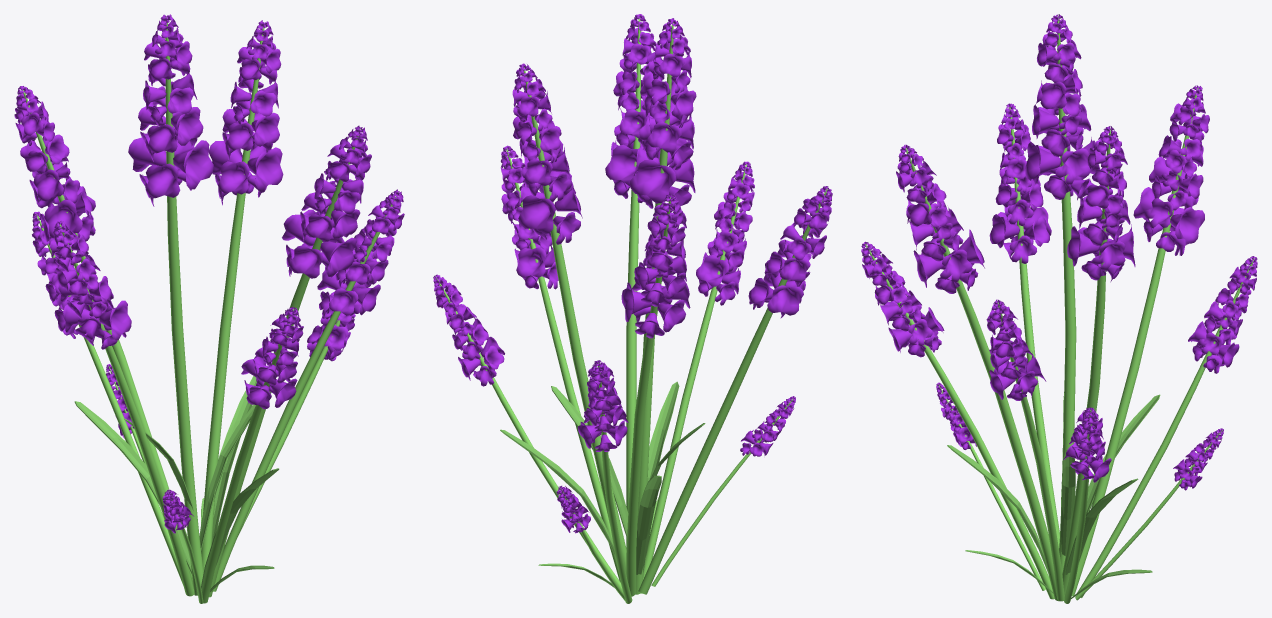
File: Stage3lavender100%.fbx
3 views of the same model, side by side, from view 1: azimuth 30°, elevation 25°; view 2: azimuth 150°, elevation 25°; view 3: azimuth 270°, elevation 25° (orthographic). The views are drawn at different scales.
Visible parts, largest first — view 1: main lavender.031, main lavender.034, main lavender.037, main lavender.054, main lavender.046, main lavender.036, main lavender.043, main lavender.055, main lavender.052, main leaf.027, main leaf.026, main lavender.057 (+4 smaller); view 2: main lavender.034, main lavender.031, main lavender.036, main lavender.054, main lavender.037, main lavender.043, main lavender.046, main lavender.052, main lavender.055, main lavender.057, main lavender.058, main leaf.027 (+3 smaller); view 3: main lavender.031, main lavender.036, main lavender.037, main lavender.034, main lavender.054, main lavender.043, main lavender.055, main lavender.046, main lavender.052, main lavender.058, main lavender.057, main leaf.030 (+3 smaller).
Part boxes in pixels (x1=…): main lavender.031: x1=128, y1=14, x2=213, y2=595; main lavender.034: x1=201, y1=20, x2=283, y2=571; main lavender.037: x1=209, y1=125, x2=371, y2=597; main lavender.054: x1=50, y1=220, x2=194, y2=596; main lavender.046: x1=213, y1=189, x2=404, y2=591; main lavender.036: x1=14, y1=86, x2=193, y2=585; main lavender.043: x1=202, y1=306, x2=303, y2=603; main lavender.055: x1=32, y1=211, x2=183, y2=585; main lavender.052: x1=238, y1=251, x2=376, y2=535; main leaf.027: x1=74, y1=401, x2=191, y2=573; main leaf.026: x1=212, y1=376, x2=256, y2=542; main lavender.057: x1=162, y1=489, x2=203, y2=603; main lavender.034: x1=512, y1=63, x2=626, y2=573; main lavender.031: x1=630, y1=18, x2=696, y2=594; main lavender.036: x1=621, y1=193, x2=690, y2=596; main lavender.054: x1=638, y1=186, x2=832, y2=594; main lavender.037: x1=605, y1=14, x2=656, y2=548; main lavender.043: x1=641, y1=161, x2=754, y2=593; main lavender.046: x1=500, y1=145, x2=620, y2=581; main lavender.052: x1=433, y1=274, x2=622, y2=590; main lavender.055: x1=577, y1=360, x2=632, y2=603; main lavender.057: x1=651, y1=396, x2=795, y2=586; main lavender.058: x1=556, y1=485, x2=625, y2=600; main leaf.027: x1=636, y1=475, x2=661, y2=574; main lavender.031: x1=1025, y1=14, x2=1100, y2=572; main lavender.036: x1=1072, y1=85, x2=1209, y2=596; main lavender.037: x1=896, y1=144, x2=1059, y2=601; main lavender.034: x1=1062, y1=126, x2=1135, y2=596; main lavender.054: x1=989, y1=103, x2=1059, y2=547; main lavender.043: x1=861, y1=241, x2=1054, y2=599; main lavender.055: x1=1077, y1=256, x2=1257, y2=597; main lavender.046: x1=986, y1=299, x2=1064, y2=601; main lavender.052: x1=1063, y1=407, x2=1111, y2=603; main lavender.058: x1=1075, y1=428, x2=1223, y2=600; main lavender.057: x1=936, y1=382, x2=1045, y2=590; main leaf.030: x1=1061, y1=450, x2=1075, y2=555.
Bounding box in the file's own units: 29.02 × 45.28 × 28.66.
